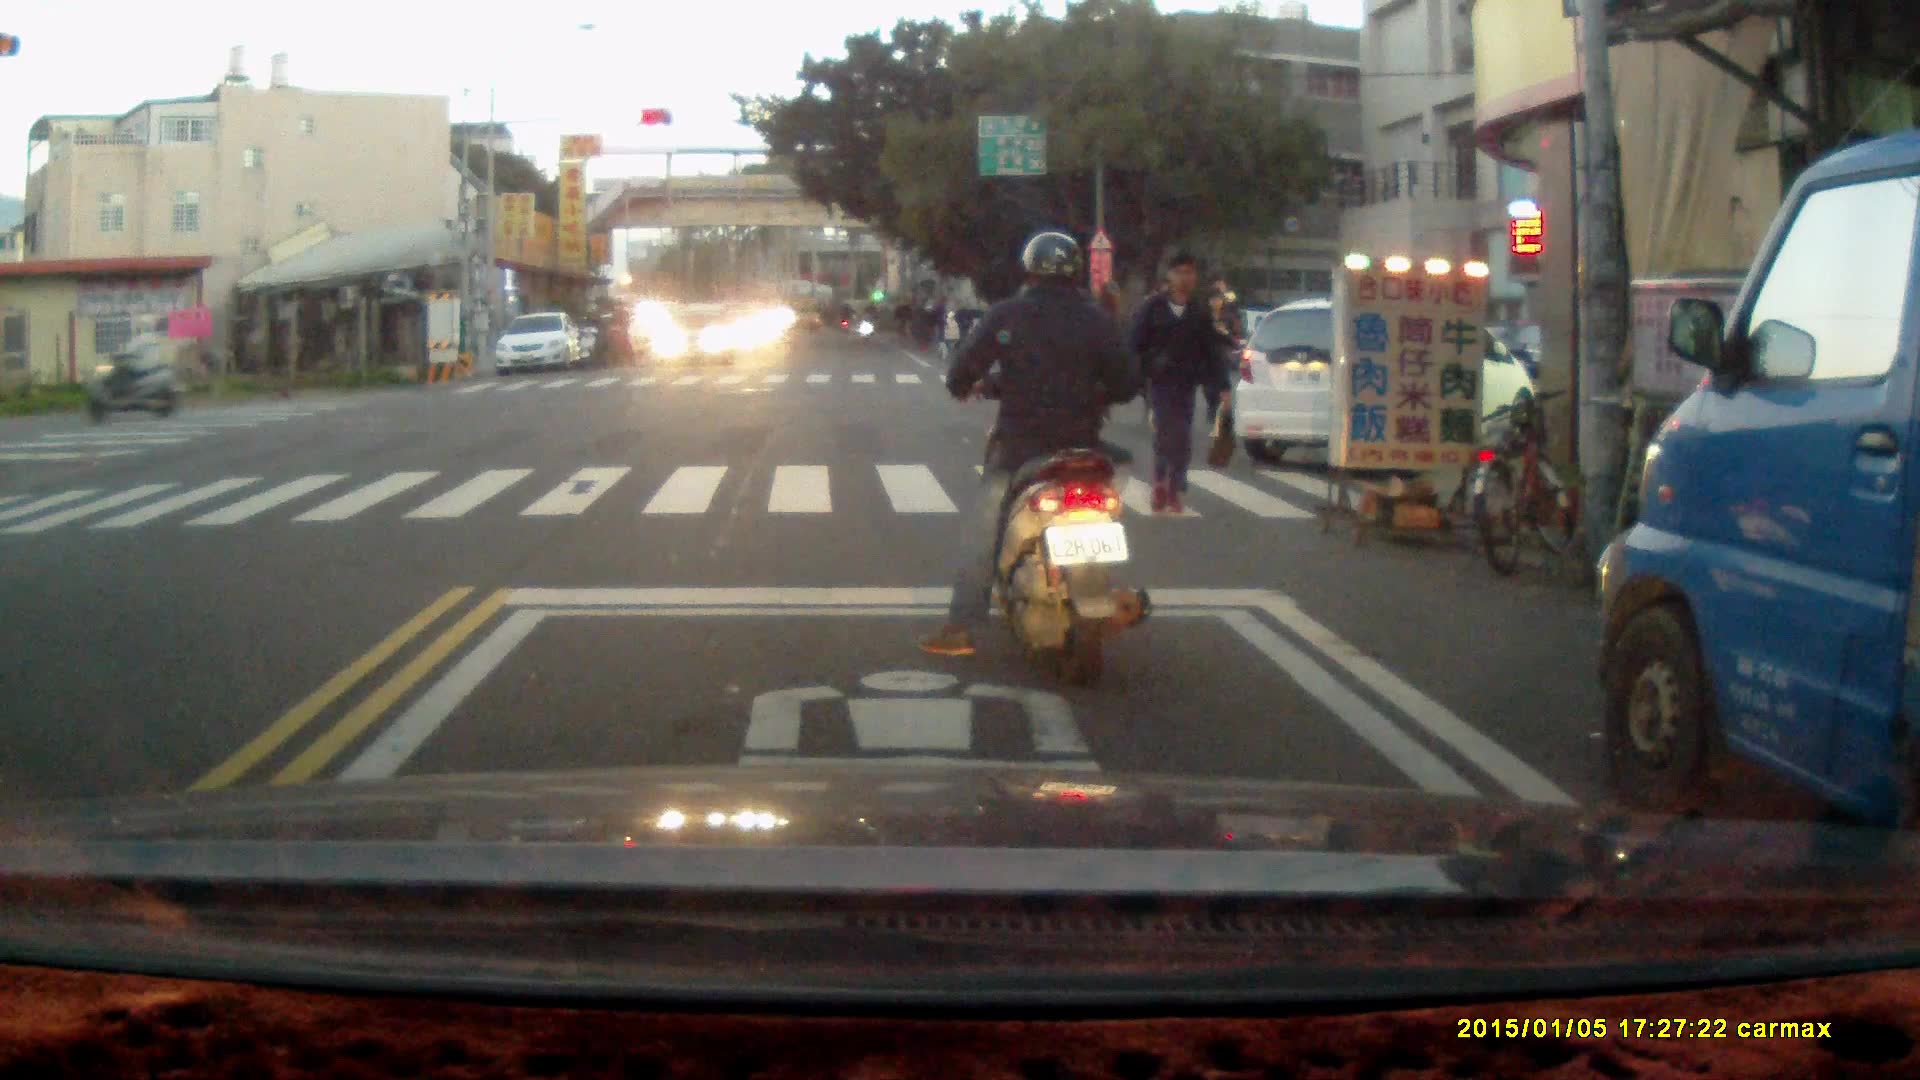pedestrian: (1127, 253, 1230, 518), (1192, 285, 1240, 442)
rider: (917, 226, 1153, 693), (85, 308, 187, 421), (599, 295, 635, 367), (577, 301, 612, 372)
vehicle: (1596, 120, 1920, 901), (1227, 303, 1533, 462), (653, 298, 741, 374), (493, 311, 584, 378)
